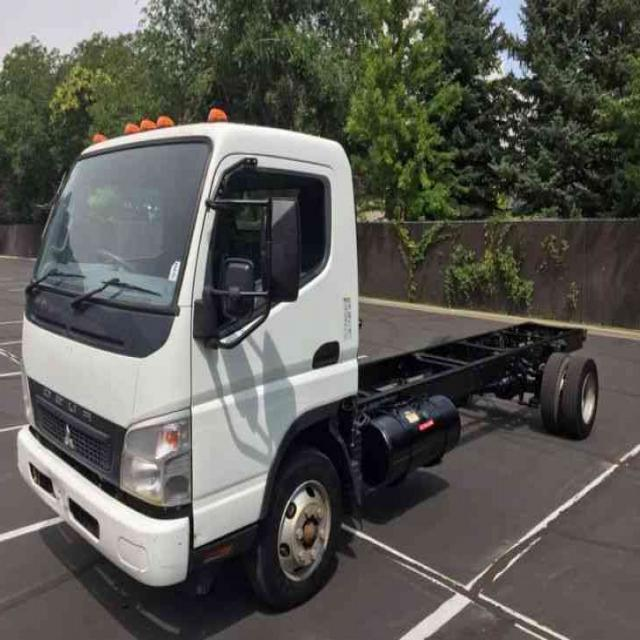truck: (18, 111, 600, 604)
